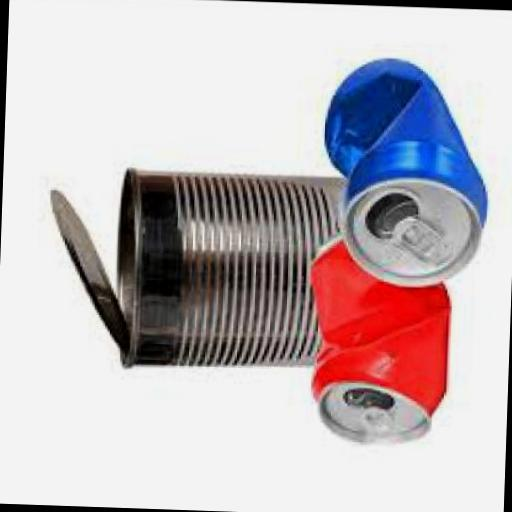biodegradable: (384, 210, 450, 264), (352, 396, 390, 432)
metal: (110, 162, 360, 372), (317, 52, 487, 285), (302, 234, 449, 441), (40, 184, 132, 348)
